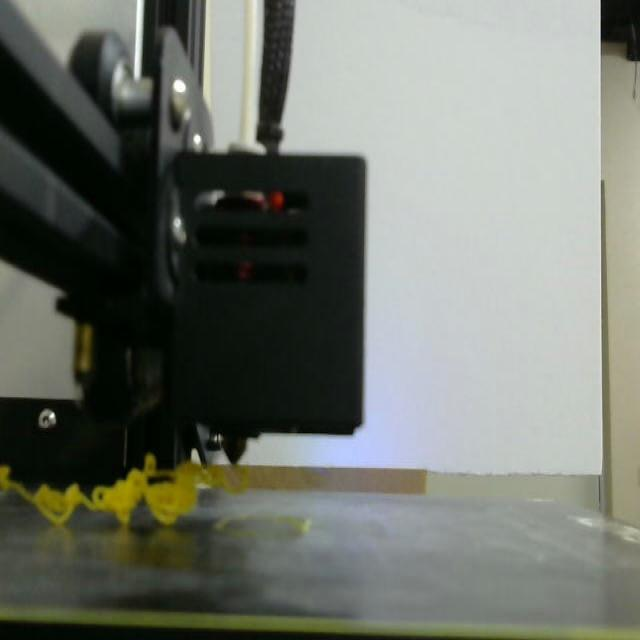spaghetti: (0, 453, 246, 525)
